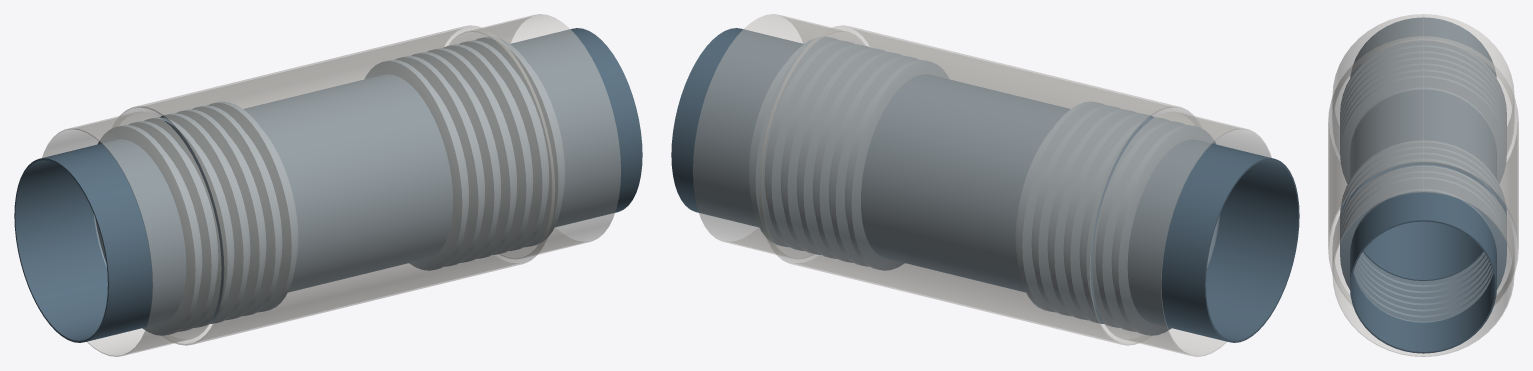
File: 2ppu-dn800-L2672-D820-k-o1063.glb
3 renders of one model, left to right at view 1: azimuth 30°, elevation 25°; view 2: azimuth 150°, elevation 25°; view 3: azimuth 270°, elevation 25°, orthographic. The views are drawn at different scales.
Visible parts, largest first — view 1: uslovno_kozhuh_ppu, patrubok_1, prokladka_silfon_1, prokladka_silfon_2, uslovno_obolochka_l, uslovno_obolochka_r, patrubok_3, patrubok_4, patrubok_2; view 2: uslovno_kozhuh_ppu, patrubok_1, prokladka_silfon_1, prokladka_silfon_2, uslovno_obolochka_l, uslovno_obolochka_r, patrubok_3, patrubok_4, patrubok_2; view 3: uslovno_kozhuh_ppu, prokladka_silfon_2, prokladka_silfon_1, patrubok_4, uslovno_obolochka_r, patrubok_2, patrubok_3, uslovno_obolochka_l, patrubok_1.
Part boxes in pixels (left/top/right/bottom): uslovno_kozhuh_ppu: left=119, top=25, right=555, bottom=345; patrubok_1: left=14, top=139, right=186, bottom=342; prokladka_silfon_1: left=93, top=101, right=298, bottom=335; prokladka_silfon_2: left=365, top=36, right=565, bottom=270; uslovno_obolochka_l: left=42, top=111, right=221, bottom=356; uslovno_obolochka_r: left=449, top=14, right=620, bottom=258; patrubok_3: left=307, top=74, right=452, bottom=276; patrubok_4: left=510, top=28, right=642, bottom=227; patrubok_2: left=243, top=93, right=375, bottom=292; uslovno_kozhuh_ppu: left=758, top=25, right=1194, bottom=345; patrubok_1: left=1127, top=139, right=1299, bottom=342; prokladka_silfon_1: left=1015, top=101, right=1220, bottom=335; prokladka_silfon_2: left=748, top=36, right=948, bottom=270; uslovno_obolochka_l: left=1092, top=111, right=1271, bottom=356; uslovno_obolochka_r: left=693, top=14, right=864, bottom=258; patrubok_3: left=861, top=74, right=1006, bottom=276; patrubok_4: left=671, top=28, right=803, bottom=227; patrubok_2: left=938, top=93, right=1070, bottom=292; uslovno_kozhuh_ppu: left=1328, top=36, right=1518, bottom=305; prokladka_silfon_2: left=1340, top=140, right=1506, bottom=322; prokladka_silfon_1: left=1340, top=39, right=1506, bottom=183; patrubok_4: left=1350, top=191, right=1496, bottom=353; uslovno_obolochka_r: left=1332, top=165, right=1514, bottom=356; patrubok_2: left=1350, top=89, right=1496, bottom=250; patrubok_3: left=1350, top=119, right=1496, bottom=280; uslovno_obolochka_l: left=1332, top=14, right=1514, bottom=153; patrubok_1: left=1350, top=17, right=1496, bottom=77.
Bounding box in the file's own units: 2672 × 1063 × 1063.
